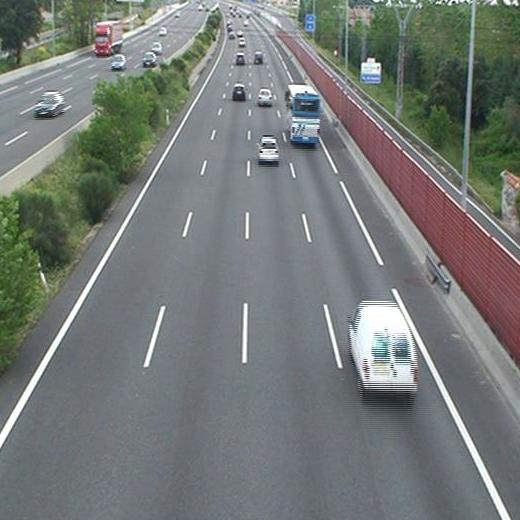bus: (285, 85, 319, 143)
car: (258, 137, 279, 161), (258, 88, 272, 105), (233, 85, 245, 99), (235, 53, 245, 64), (253, 53, 263, 64), (237, 37, 245, 47)
van: (350, 302, 417, 392)
